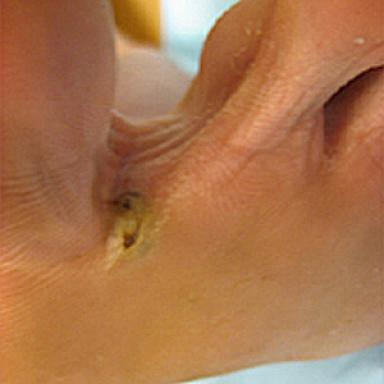Tungiasis: (102, 185, 170, 270)
